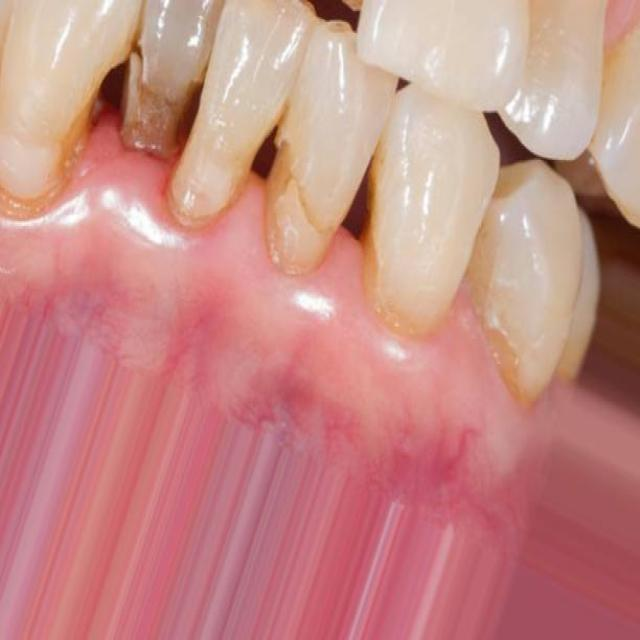caries: (108, 30, 212, 175), (250, 133, 333, 287), (38, 88, 106, 195), (357, 204, 400, 310)
